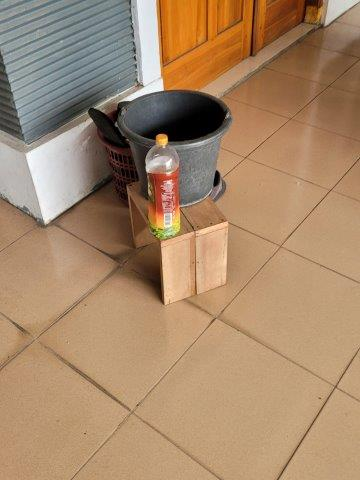botolplastik: (146, 134, 181, 236)
